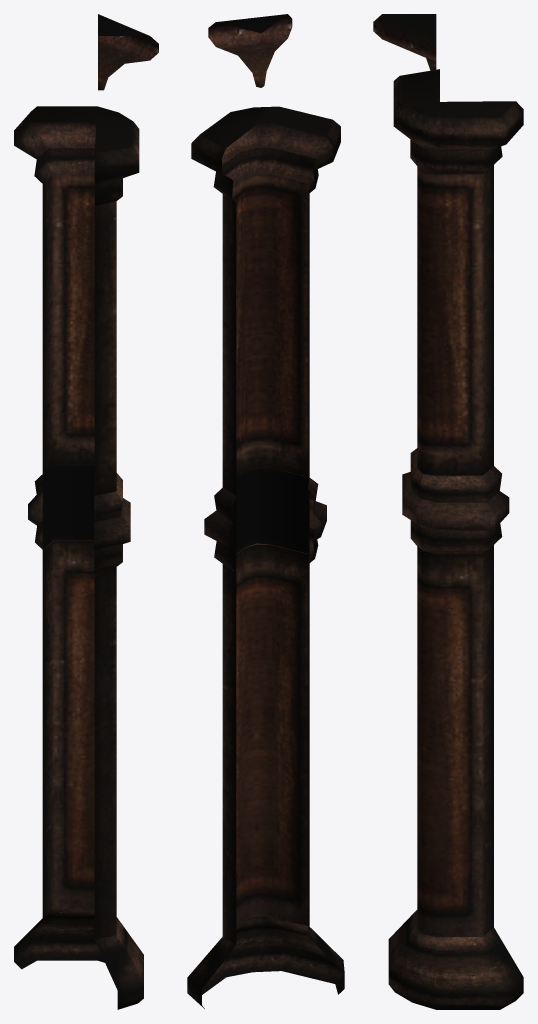
File: welder02_convex.dae
3 renders of one model, left to right at view 1: azimuth 90°, elevation 25°; view 2: azimuth 150°, elevation 25°; view 3: azimuth 270°, elevation 25°, orthographic. The views are drawn at different scales.
Parts seen in each view (by area): view 1: welder02_convex; view 2: welder02_convex; view 3: welder02_convex.
Part boxes in pixels (x1=…): welder02_convex: x1=14, y1=14, x2=158, y2=1009; welder02_convex: x1=187, y1=14, x2=344, y2=1008; welder02_convex: x1=373, y1=14, x2=523, y2=1009.
Bounding box in the file's own units: 0.557 × 4 × 0.557.
